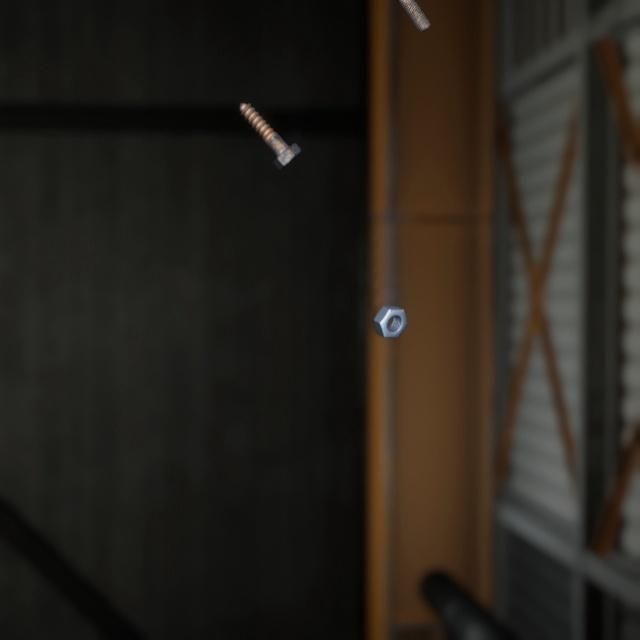bolt: (234, 85, 305, 161), (395, 0, 435, 32)
nut: (368, 284, 412, 325)
